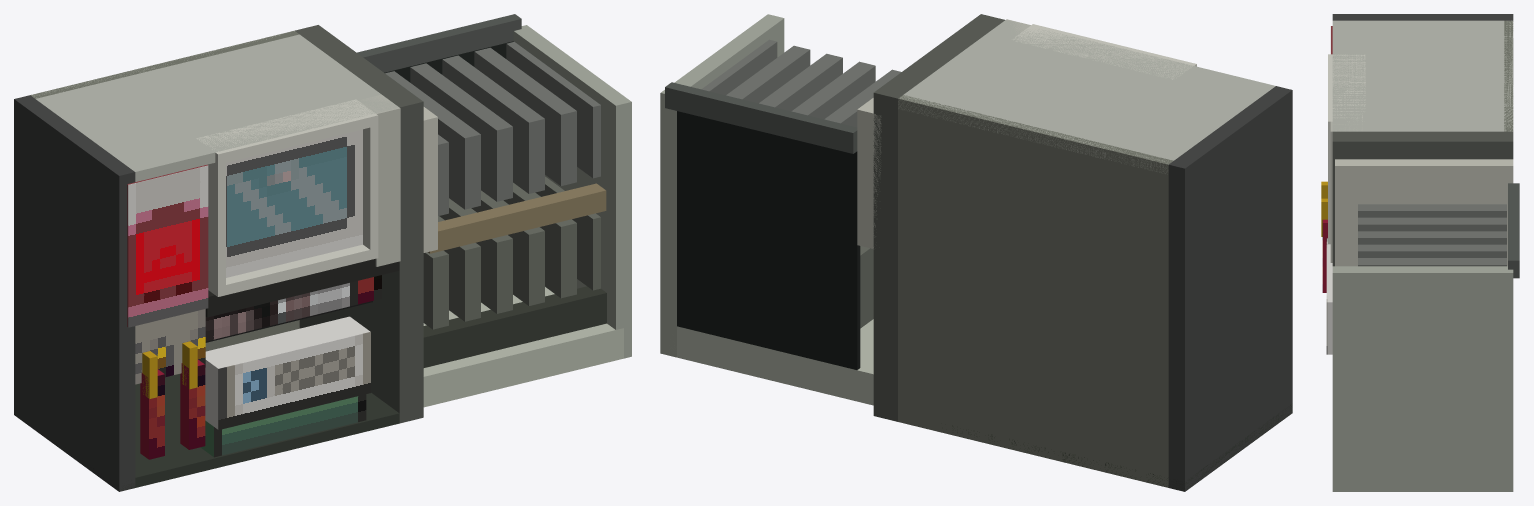
The model's file is CMU3DMedilatheRightCloud.glb.
The picture shows the model from 3 angles, left to right: view 1: azimuth 30°, elevation 25°; view 2: azimuth 150°, elevation 25°; view 3: azimuth 270°, elevation 25°; orthographic projection. The views are drawn at different scales.
Parts seen in each view (by area): view 1: outer left full depth cabinet, full machine roof, large medical viewport recessed inset original face, main right separator, left red front instrument original face, output end rail, medical cartridge control deck original face, output lower plinth, lower roller guard, left cabinet bottom, brass roller cross brace, large medical viewport upper frame (+31 smaller); view 2: main cabinet rear wall, outer left full depth cabinet, output dark lower back, full machine roof, main right separator, output end rail, output lower plinth, output upper rear safety rail, large medical viewport upper frame, output inner divider, upper output roller 5, upper output roller 3 (+5 smaller); view 3: output end rail, full machine roof, output inner divider, main right separator, upper output roller 2, upper output roller 1, upper output roller 3, upper output roller 4, large medical viewport upper frame, upper output roller 5, outer left full depth cabinet, output upper rear safety rail (+6 smaller).
Part boxes in pixels (bbox=[...]): outer left full depth cabinet: bbox=[14, 95, 135, 491]; full machine roof: bbox=[32, 31, 398, 181]; large medical viewport recessed inset original face: bbox=[226, 129, 362, 277]; main right separator: bbox=[295, 25, 423, 423]; left red front instrument original face: bbox=[128, 165, 208, 327]; output end rail: bbox=[513, 25, 631, 358]; medical cartridge control deck original face: bbox=[218, 332, 370, 429]; output lower plinth: bbox=[423, 287, 623, 407]; lower roller guard: bbox=[423, 286, 606, 367]; left cabinet bottom: bbox=[15, 374, 399, 491]; brass roller cross brace: bbox=[428, 183, 606, 253]; large medical viewport upper frame: bbox=[196, 99, 378, 164]; main cabinet rear wall: bbox=[898, 95, 1173, 487]; outer left full depth cabinet: bbox=[1168, 86, 1292, 491]; output dark lower back: bbox=[677, 111, 860, 369]; full machine roof: bbox=[898, 20, 1275, 174]; main right separator: bbox=[873, 14, 1004, 421]; output end rail: bbox=[660, 14, 784, 357]; output lower plinth: bbox=[674, 319, 873, 405]; output upper rear safety rail: bbox=[665, 82, 857, 153]; large medical viewport upper frame: bbox=[1012, 24, 1196, 79]; output inner divider: bbox=[857, 98, 881, 248]; upper output roller 5: bbox=[726, 45, 810, 103]; upper output roller 3: bbox=[791, 61, 875, 119]; output end rail: bbox=[1332, 266, 1513, 491]; full machine roof: bbox=[1332, 20, 1513, 131]; output inner divider: bbox=[1335, 159, 1513, 266]; main right separator: bbox=[1332, 131, 1513, 266]; upper output roller 2: bbox=[1358, 217, 1506, 231]; upper output roller 1: bbox=[1358, 204, 1506, 217]; upper output roller 3: bbox=[1358, 231, 1506, 244]; upper output roller 4: bbox=[1358, 244, 1506, 257]; large medical viewport upper frame: bbox=[1328, 54, 1365, 130]; upper output roller 5: bbox=[1358, 258, 1506, 266]; outer left full depth cabinet: bbox=[1332, 14, 1513, 20]; output upper rear safety rail: bbox=[1508, 183, 1519, 278].
Bounding box in the file's own units: 2 × 1.18 × 0.779.
Materials: 34 (8 with a texture image).
